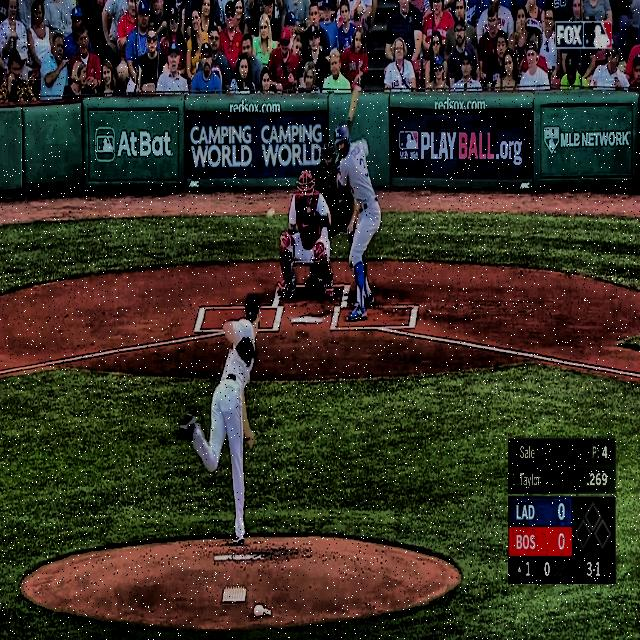baseball: (267, 207, 275, 218)
